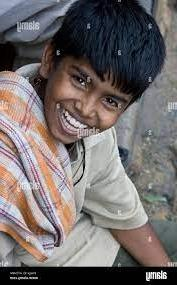Human: (7, 0, 168, 281)
